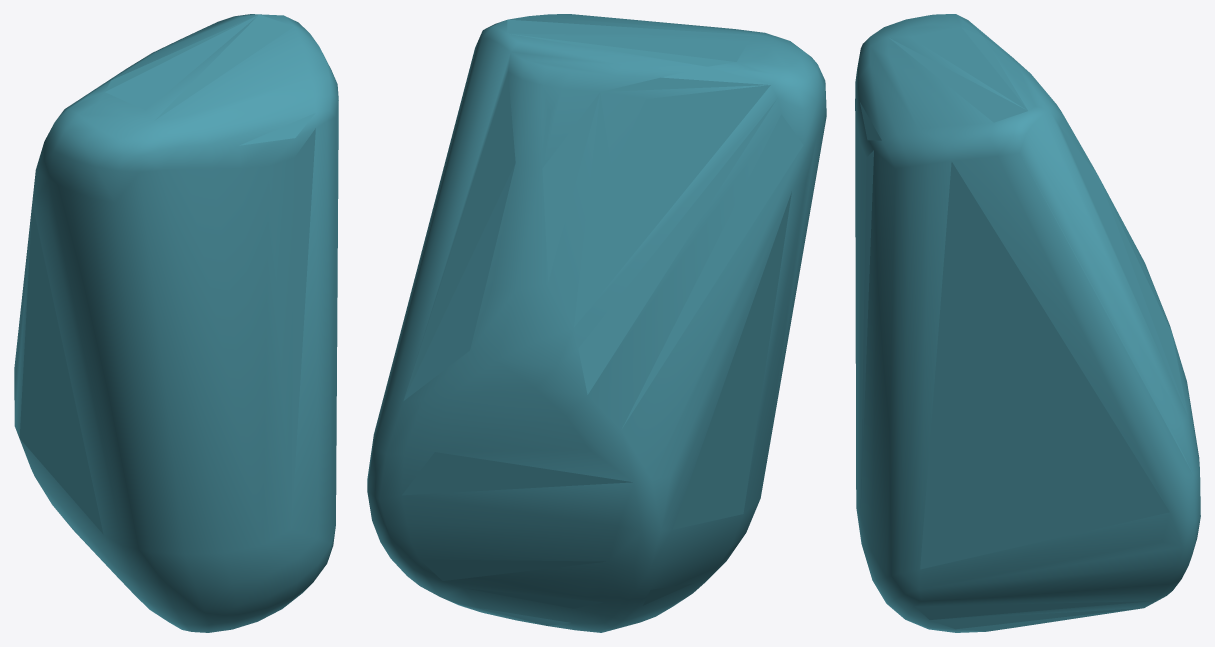
File: COL_Alpha_Surface_004_convex_hull.dae
The picture shows the model from 3 angles, left to right: view 1: azimuth 30°, elevation 25°; view 2: azimuth 150°, elevation 25°; view 3: azimuth 270°, elevation 25°; orthographic projection. The views are drawn at different scales.
Visible parts, largest first — view 1: COL_Alpha_Surface_004_convex_hull; view 2: COL_Alpha_Surface_004_convex_hull; view 3: COL_Alpha_Surface_004_convex_hull.
Part boxes in pixels (x1,y1,x2,y2): COL_Alpha_Surface_004_convex_hull: (14, 14, 338, 632); COL_Alpha_Surface_004_convex_hull: (367, 14, 826, 632); COL_Alpha_Surface_004_convex_hull: (855, 14, 1200, 632).
Size of the model in its own units: 12.09 by 11.85 by 20.68.
